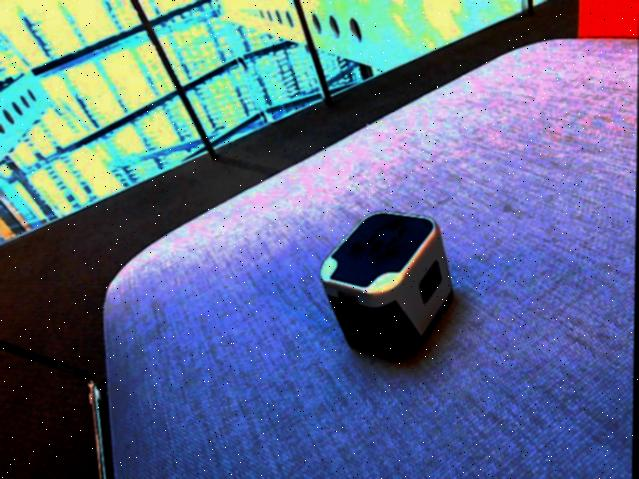adapter: (319, 211, 456, 362)
